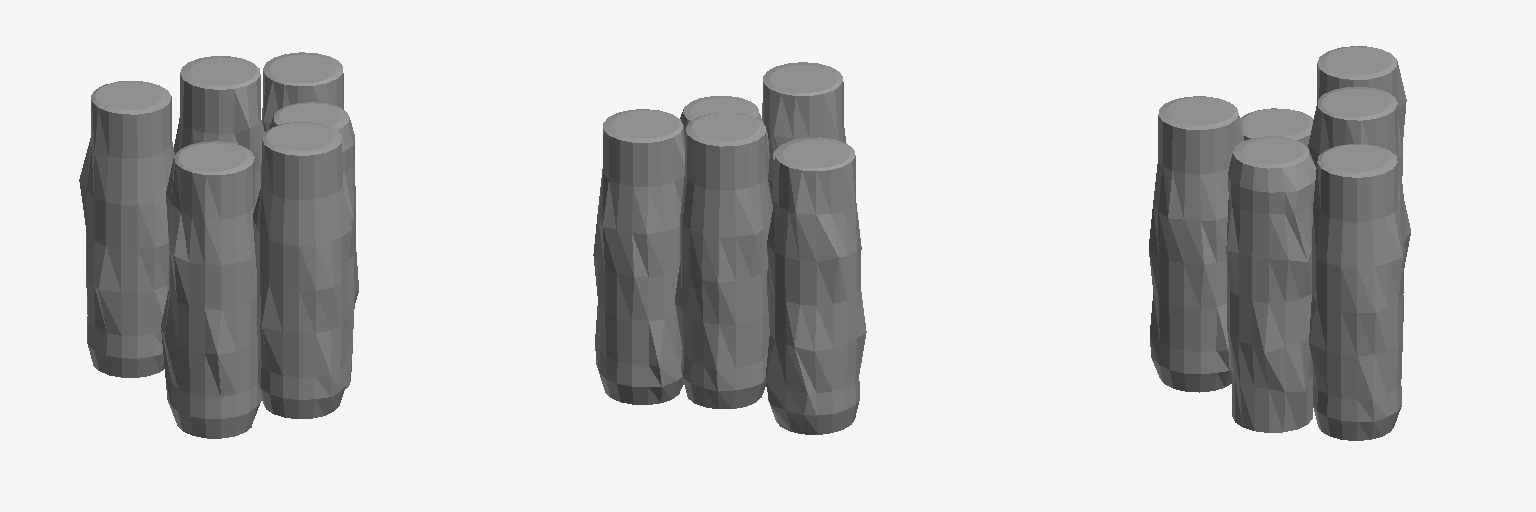
The model's file is stack.obj.
3 views of the same model, side by side, from view 1: azimuth 30°, elevation 25°; view 2: azimuth 150°, elevation 25°; view 3: azimuth 270°, elevation 25° (orthographic).
Parts seen in each view (by area): view 1: Wood.004_Cylinder.009, Wood.005_Cylinder.010, Wood_Cylinder, Wood.001_Cylinder.006, Wood.002_Cylinder.007, Wood.003_Cylinder.008; view 2: Wood_Cylinder, Wood.001_Cylinder.006, Wood.002_Cylinder.007, Wood.005_Cylinder.010, Wood.003_Cylinder.008; view 3: Wood.002_Cylinder.007, Wood.003_Cylinder.008, Wood.005_Cylinder.010, Wood.001_Cylinder.006, Wood_Cylinder, Wood.004_Cylinder.009.
Boxes of the visible parts, x1,y1,x2,y2 form: Wood.004_Cylinder.009: [161, 141, 261, 438]; Wood.005_Cylinder.010: [253, 122, 351, 418]; Wood_Cylinder: [79, 81, 174, 377]; Wood.001_Cylinder.006: [174, 56, 264, 202]; Wood.002_Cylinder.007: [262, 52, 343, 131]; Wood.003_Cylinder.008: [269, 102, 358, 388]; Wood_Cylinder: [765, 137, 866, 433]; Wood.001_Cylinder.006: [675, 113, 772, 408]; Wood.002_Cylinder.007: [593, 109, 684, 404]; Wood.005_Cylinder.010: [762, 62, 845, 198]; Wood.003_Cylinder.008: [680, 96, 769, 175]; Wood.002_Cylinder.007: [1309, 144, 1403, 440]; Wood.003_Cylinder.008: [1226, 136, 1316, 432]; Wood.005_Cylinder.010: [1149, 96, 1244, 392]; Wood.001_Cylinder.006: [1308, 87, 1405, 321]; Wood_Cylinder: [1317, 46, 1410, 267]; Wood.004_Cylinder.009: [1240, 108, 1313, 384].
Size of the model in its own units: 1.61 by 1.87 by 1.43.